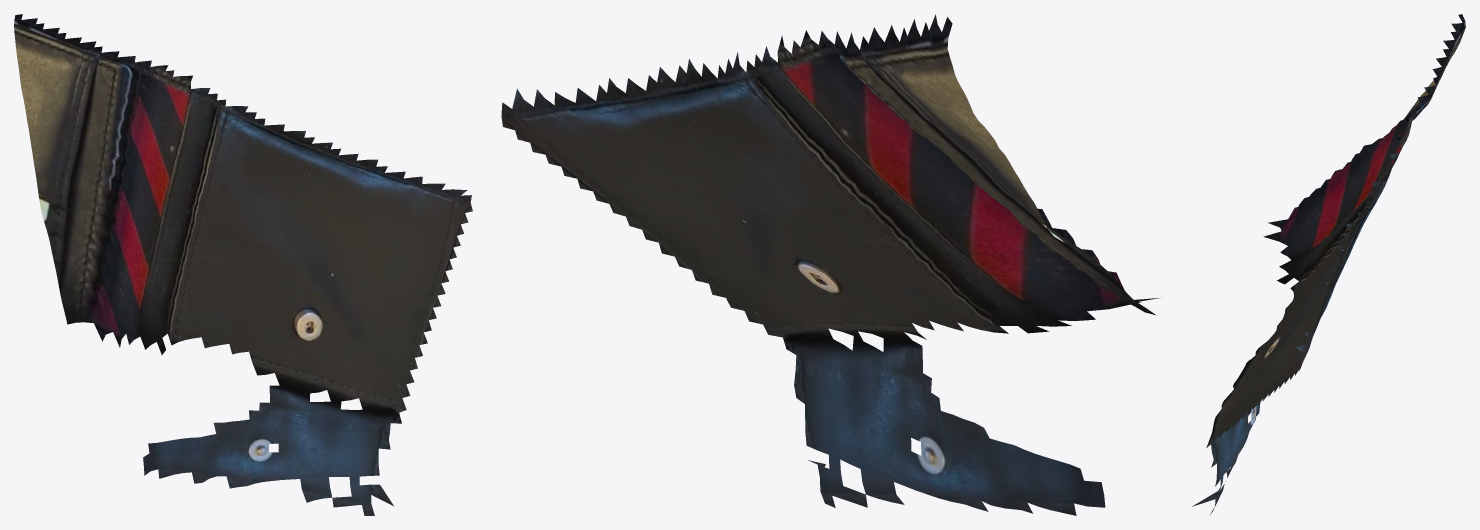
File: observed-surface.glb
3 renders of one model, left to right at view 1: azimuth 30°, elevation 25°; view 2: azimuth 150°, elevation 25°; view 3: azimuth 270°, elevation 25°, orthographic. The views are drawn at different scales.
Visible parts, largest first — view 1: geometry_0; view 2: geometry_0; view 3: geometry_0.
Part boxes in pixels (box(x1,y1,x2,y2)): geometry_0: box(14, 14, 472, 515); geometry_0: box(501, 14, 1161, 515); geometry_0: box(1192, 14, 1465, 514).
Bounding box in the file's own units: 0.5672 × 0.608 × 0.372.
Materials: 1 (1 with a texture image).
